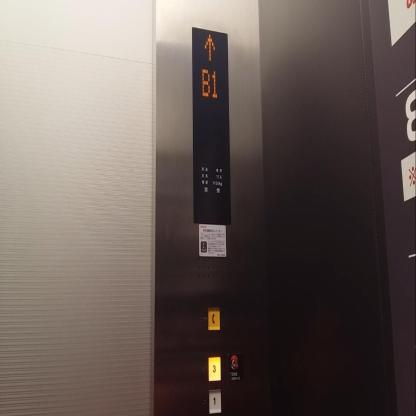1: (207, 388, 222, 416)
3: (206, 354, 221, 382)
call: (206, 304, 221, 332)
led: (190, 23, 232, 229)
unknown: (228, 352, 244, 385)
